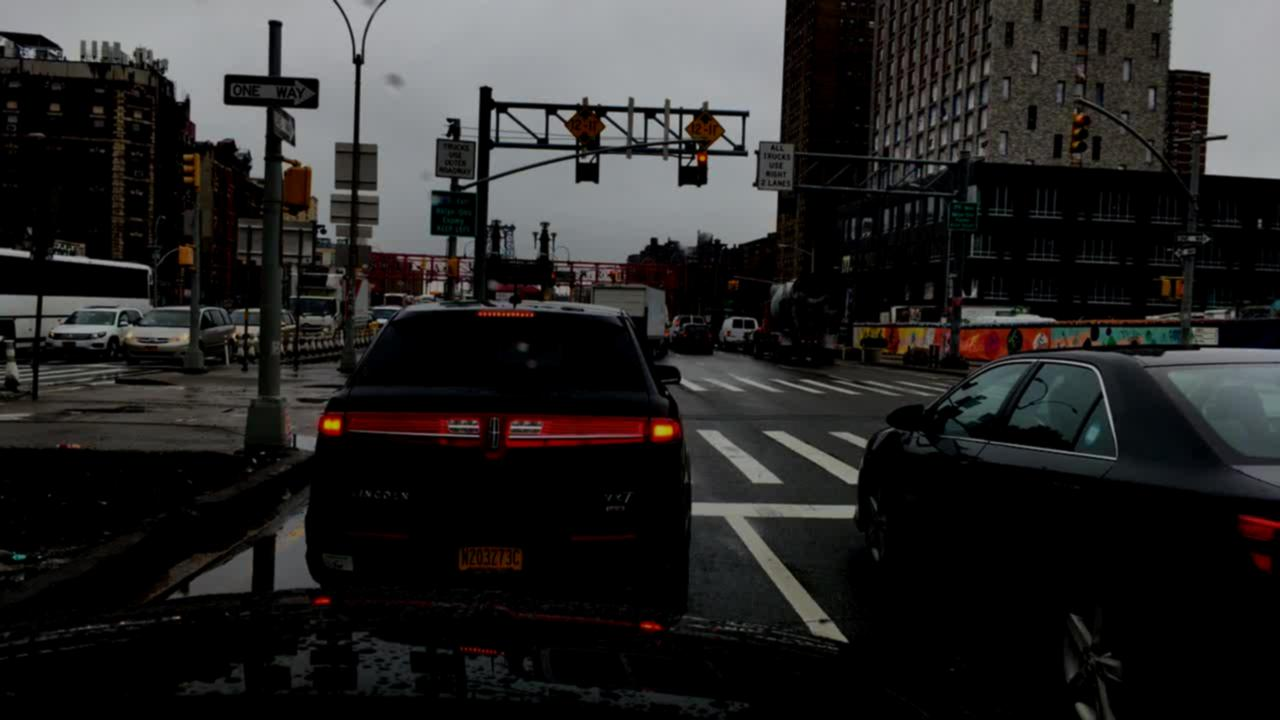lincoln: (481, 406, 514, 471)
